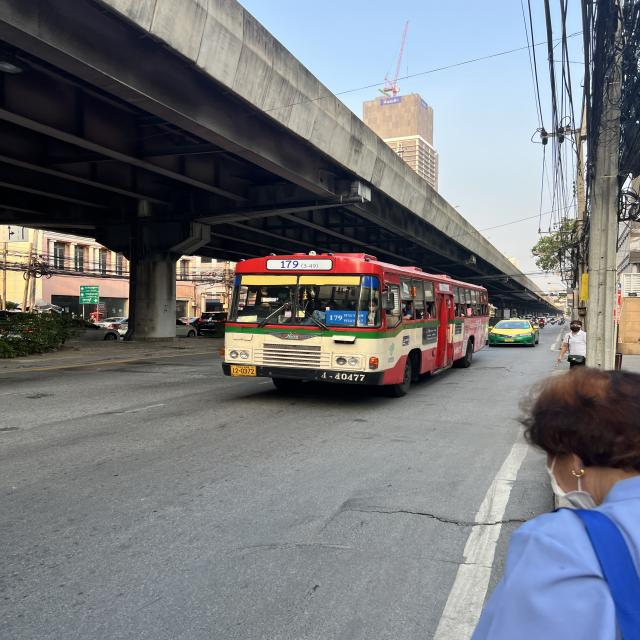BMTA-bus: (221, 252, 490, 396)
Bus-Line-Number: (276, 259, 320, 269)
Destination-Sign-Normal: (326, 310, 368, 326)
